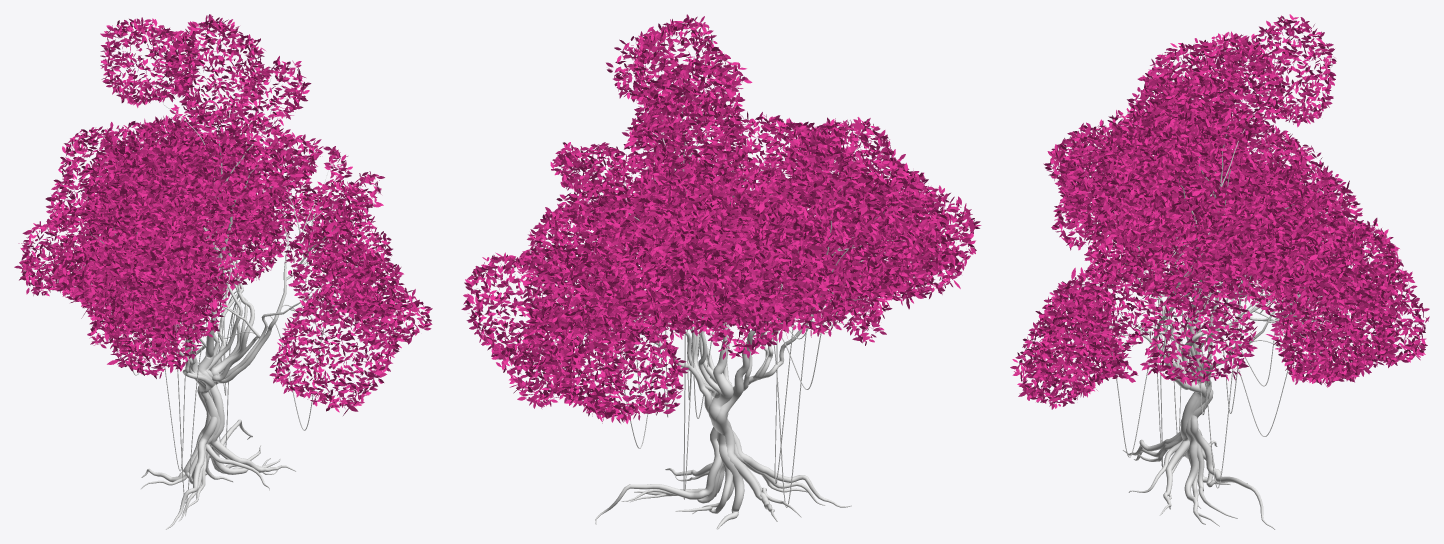
Rendered from cherryblossomtree.fbx.
3 renders of one model, left to right at view 1: azimuth 30°, elevation 25°; view 2: azimuth 150°, elevation 25°; view 3: azimuth 270°, elevation 25°, orthographic. The views are drawn at different scales.
Visible parts, largest first — view 1: Tree; view 2: Tree; view 3: Tree.
Part boxes in pixels (left/top/right/bottom): Tree: left=14, top=14, right=432, bottom=529; Tree: left=461, top=14, right=981, bottom=529; Tree: left=1010, top=14, right=1429, bottom=529.
Bounding box in the file's own units: 488 × 561 × 453.
